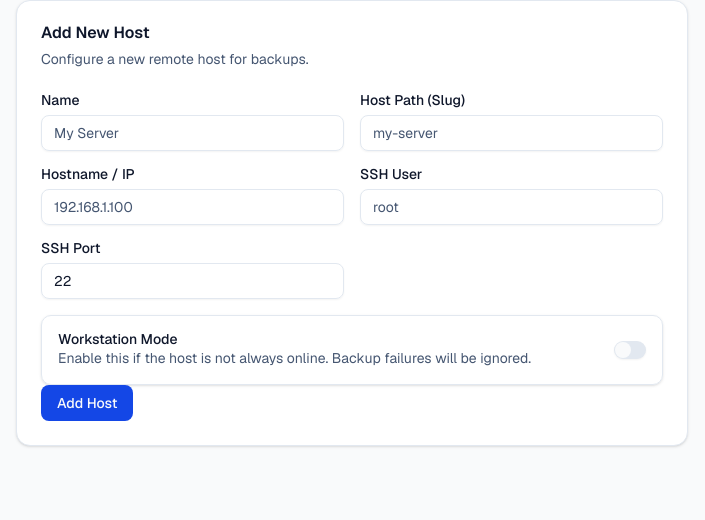
Test: AddHostForm › shows validation errors for empty required fields
Click the button "Add Host".
click(87, 403)  # box [41,385,134,421]
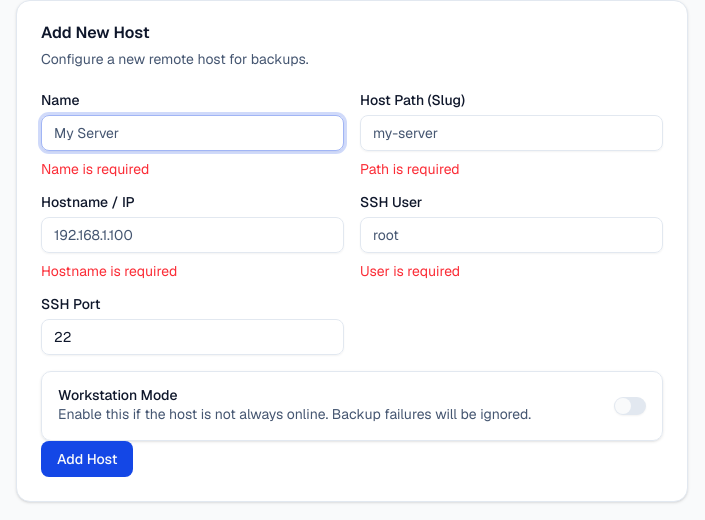
Check: the text "Name is required" is shown, box [41,160,149,178]
Check: the text "Hostname is required" is shown, box [41,262,177,280]
Check: the text "User is required" is shown, box [360,262,460,280]
